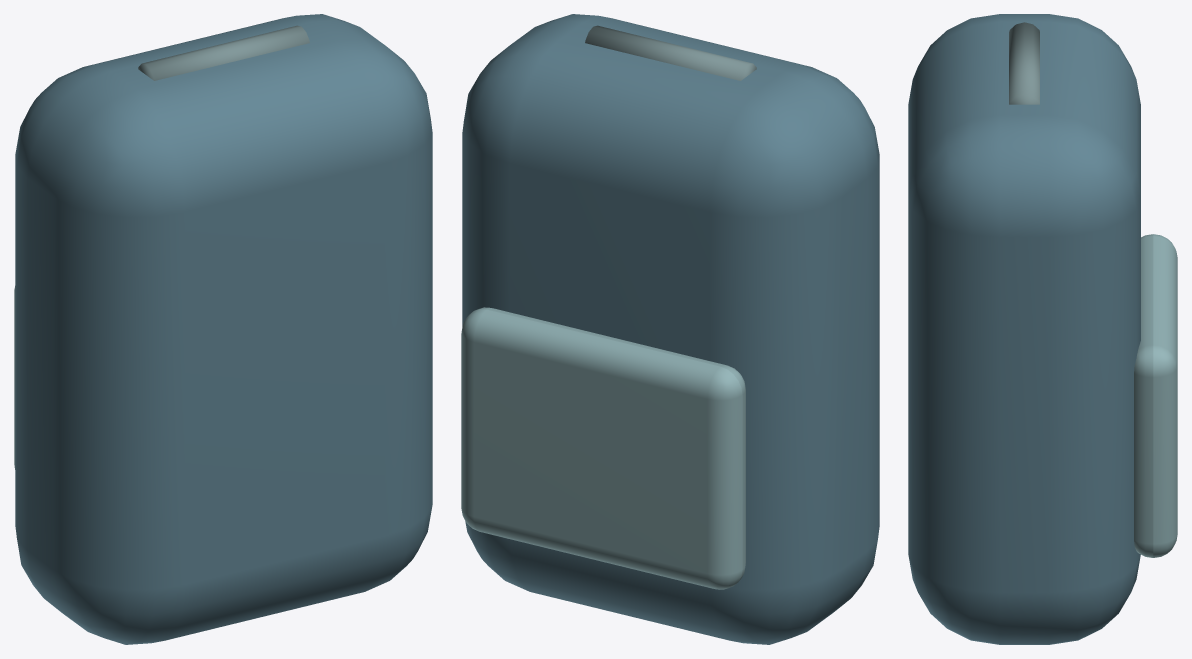
File: book_bag.glb
The picture shows the model from 3 angles, left to right: view 1: azimuth 30°, elevation 25°; view 2: azimuth 150°, elevation 25°; view 3: azimuth 270°, elevation 25°; orthographic projection. The views are drawn at different scales.
Parts seen in each view (by area): view 1: Bag, Handle; view 2: Bag, Pocket, Handle; view 3: Bag, Pocket, Handle.
Part boxes in pixels (x1,y1,x2,y2): Bag: (15, 14, 432, 644); Handle: (138, 25, 309, 80); Bag: (462, 14, 879, 644); Pocket: (461, 307, 745, 589); Handle: (585, 25, 756, 80); Bag: (908, 14, 1140, 644); Pocket: (1134, 234, 1177, 557); Handle: (1009, 22, 1039, 104).
Size of the model in its own units: 0.33 by 0.479 by 0.22.
